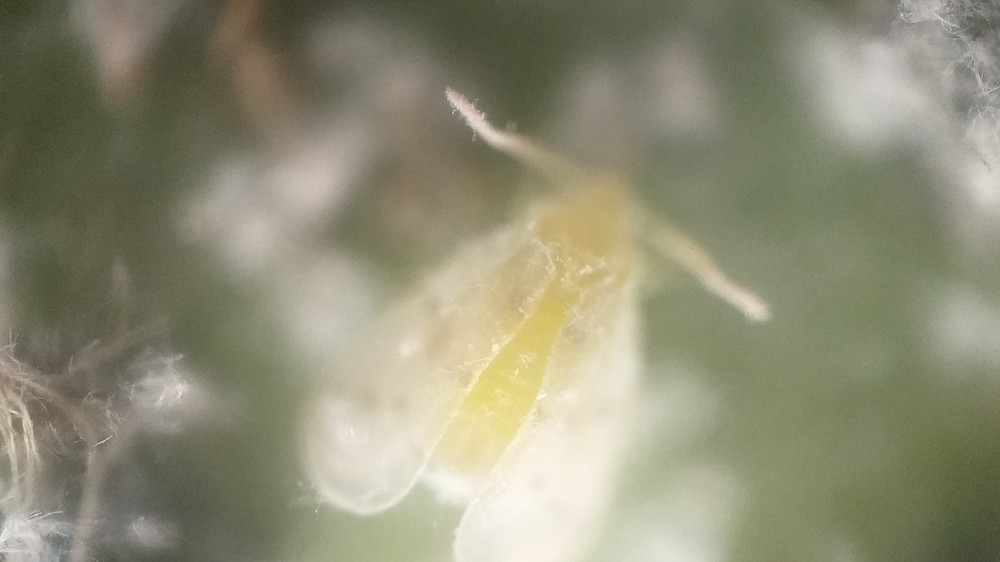Mosca Blanca: (283, 84, 779, 562)
